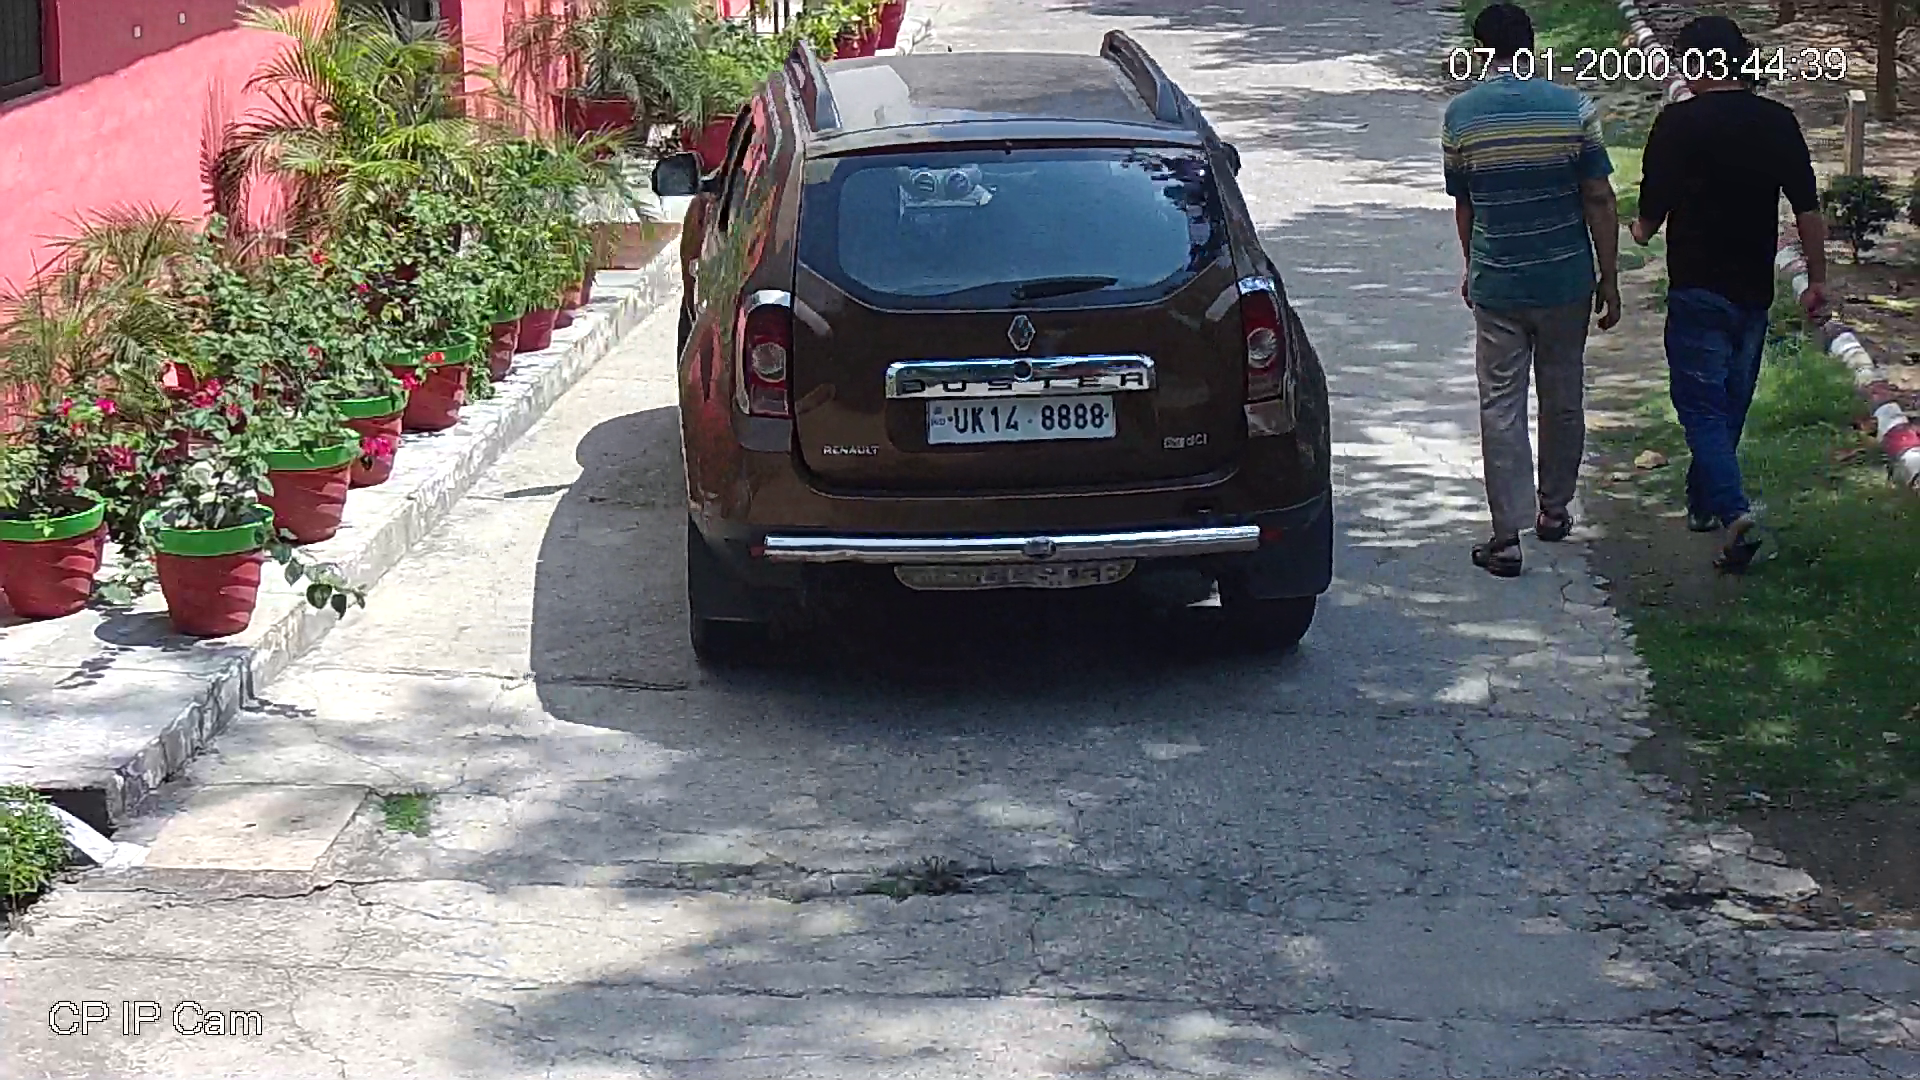plate: (921, 386, 1117, 446)
